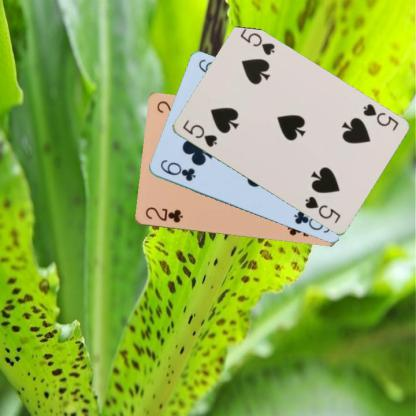2c: (142, 205, 184, 224)
5s: (360, 101, 400, 132), (180, 118, 218, 148)
6c: (157, 157, 197, 183)
